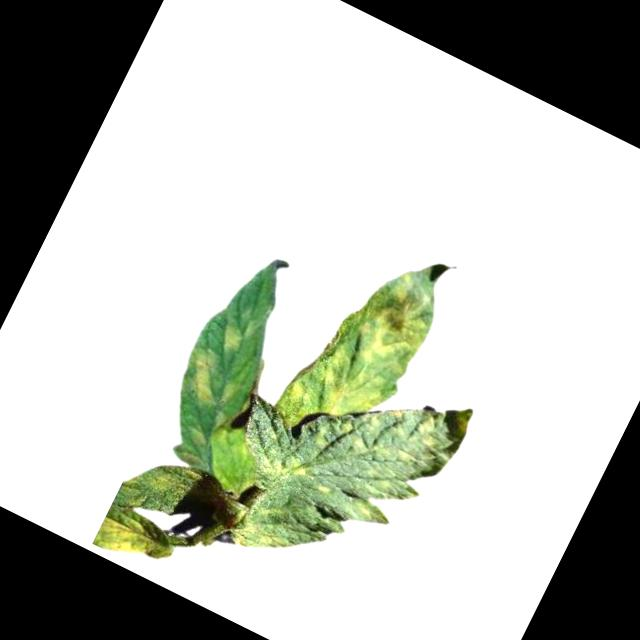Leaf_Mold: (271, 239, 451, 461), (91, 501, 178, 577), (227, 494, 306, 570), (254, 438, 313, 492), (182, 349, 232, 403), (217, 320, 253, 357)
